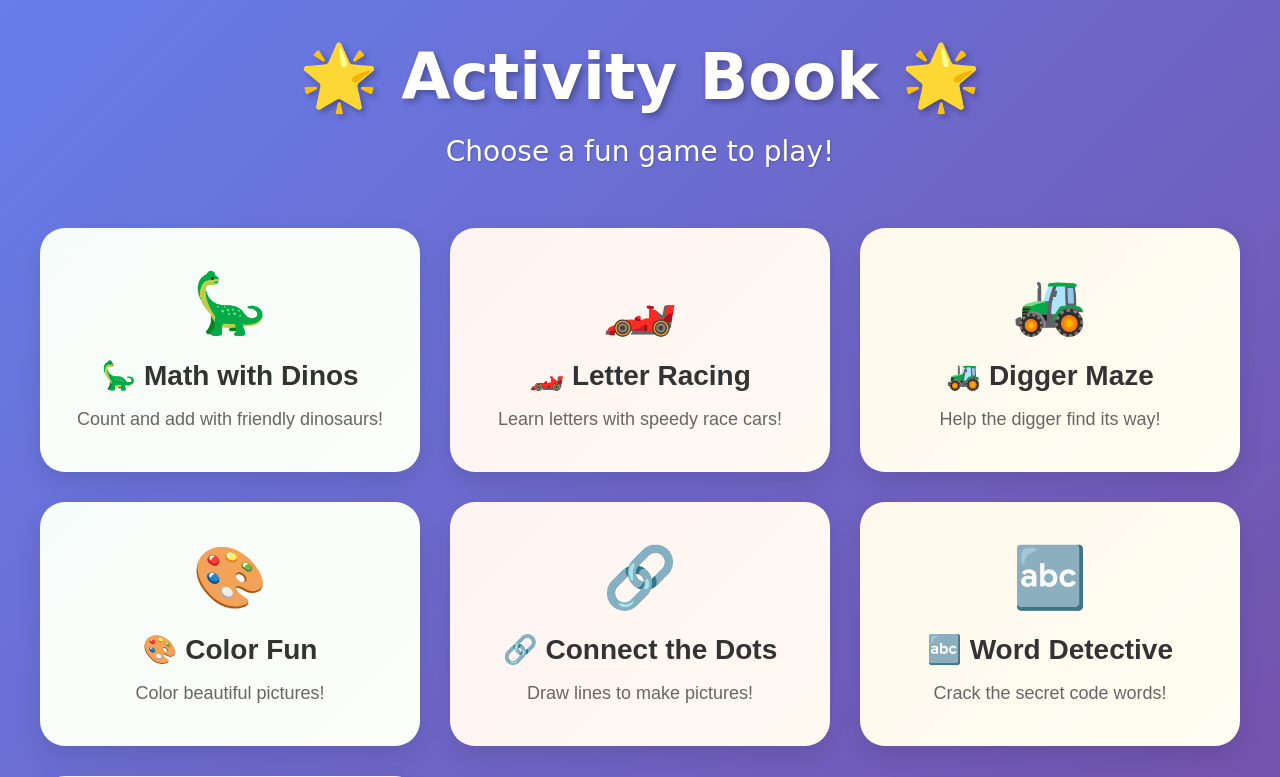
Test: App Component › navigates to math game when clicked
This screenshot has width=1280, height=777.
Click the heading "🦕 Math with Dinos" at (230, 376), box [101,359,359,392]
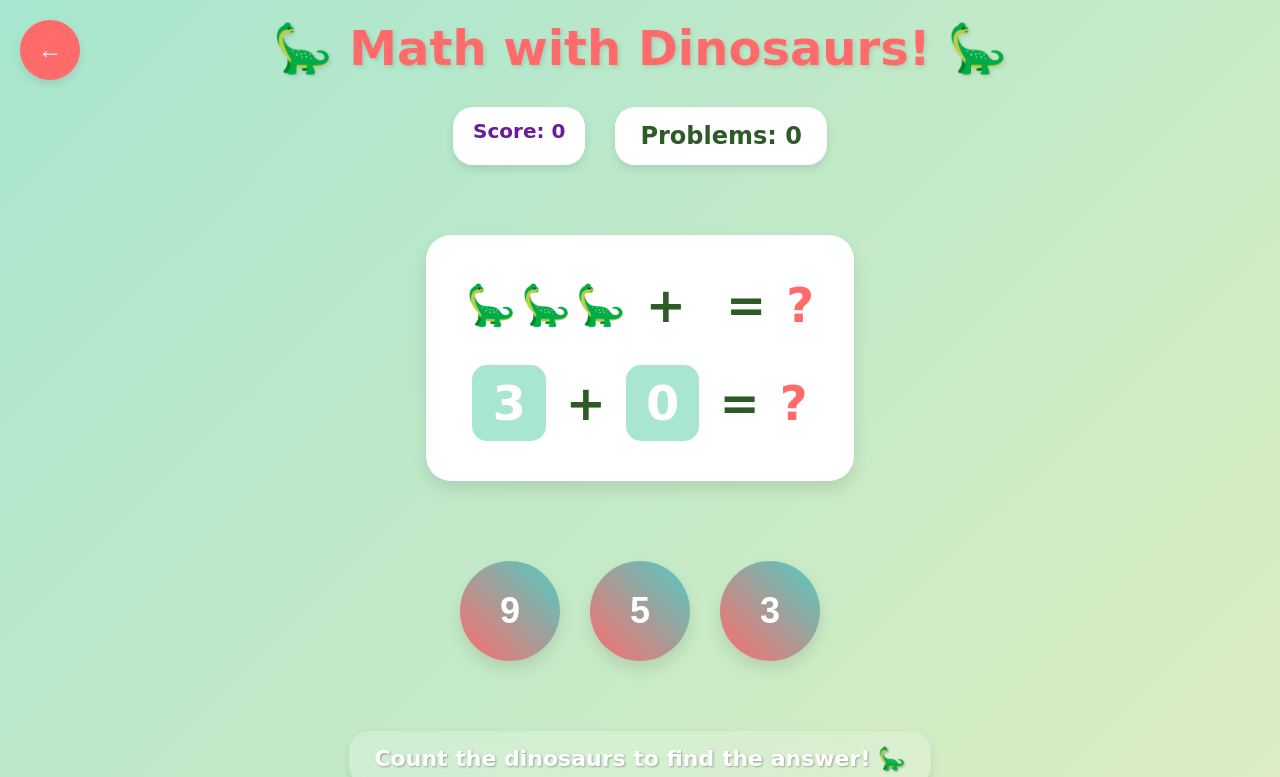
Now the heading "🦕 Math with Dinosaurs! 🦕" is shown, box [273,20,1007,77]
